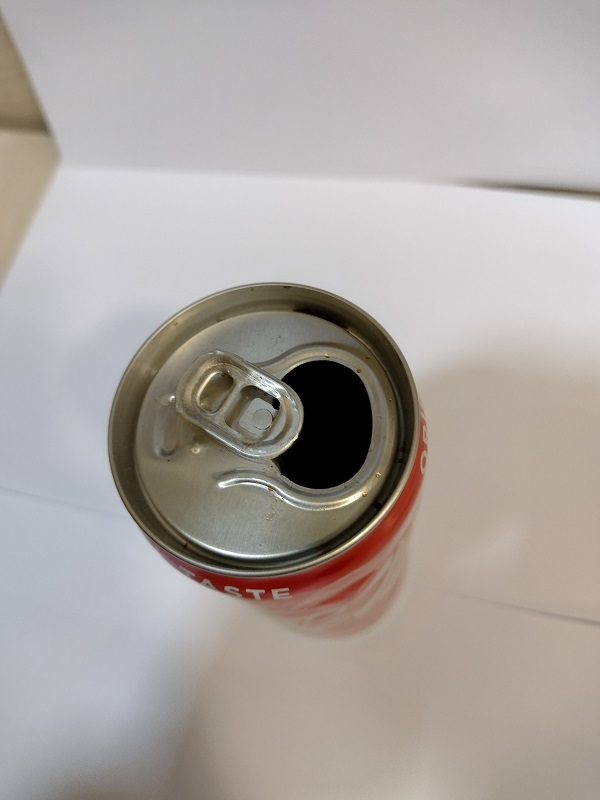can: (95, 273, 441, 637)
